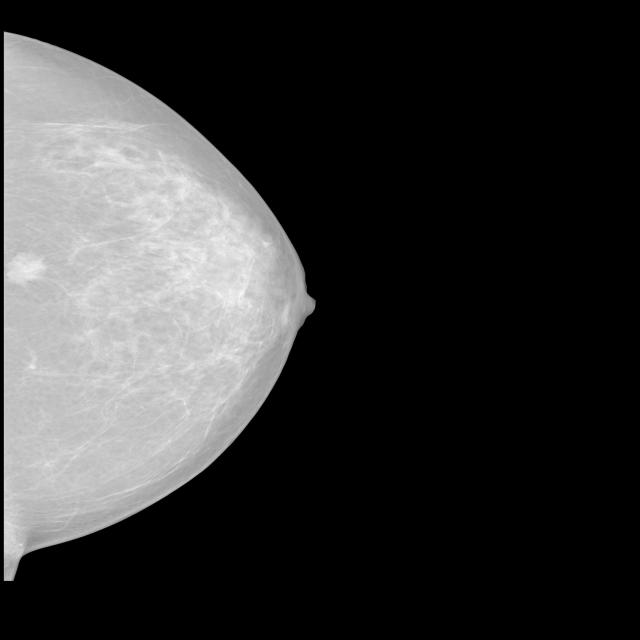Mass_1: (2, 233, 68, 306)
